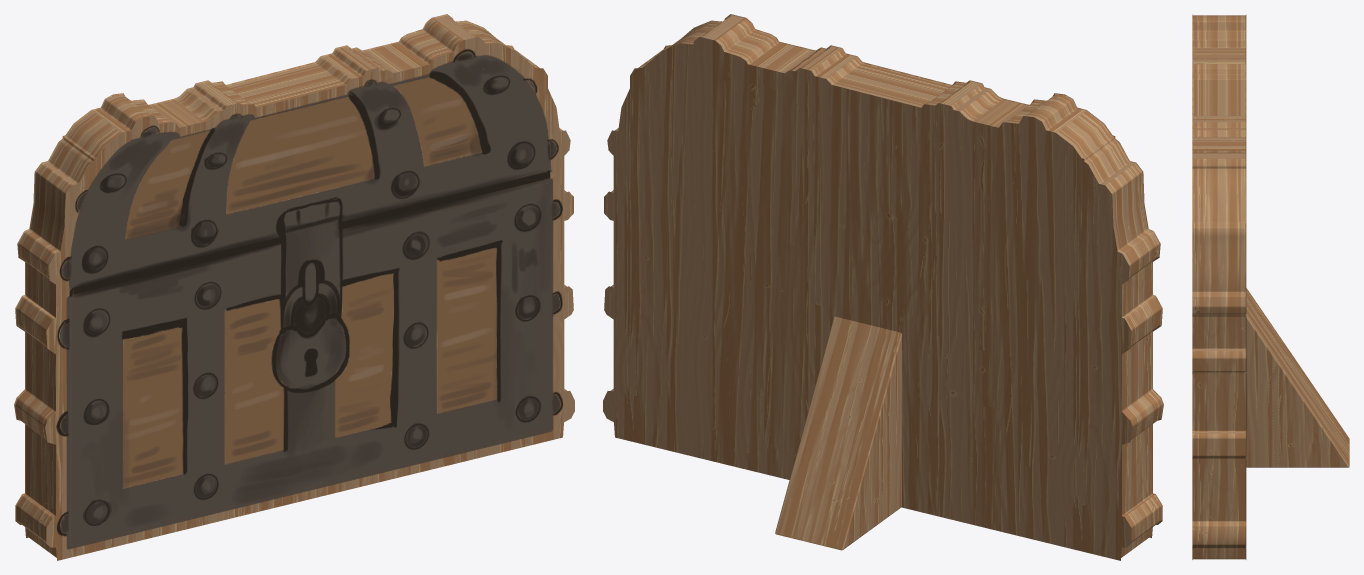
File: chest.glb
3 renders of one model, left to right at view 1: azimuth 30°, elevation 25°; view 2: azimuth 150°, elevation 25°; view 3: azimuth 270°, elevation 25°, orthographic. The views are drawn at different scales.
Visible parts, largest first — view 1: chest_Block; view 2: chest_Block, chest_RearBrace; view 3: chest_Block, chest_RearBrace.
Part boxes in pixels (left/top/right/bottom): chest_Block: left=14, top=14, right=574, bottom=560; chest_Block: left=603, top=14, right=1163, bottom=560; chest_RearBrace: left=775, top=316, right=901, bottom=550; chest_Block: left=1192, top=14, right=1246, bottom=559; chest_RearBrace: left=1246, top=288, right=1349, bottom=467.
Size of the model in its own units: 1.48 by 1.13 by 0.4364.
1 material, 1 textured.
